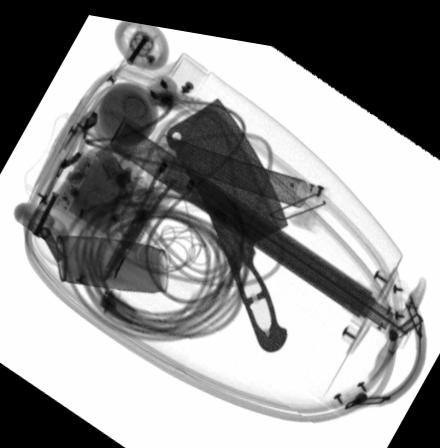Knife: (164, 88, 288, 343)
Powerbank: (48, 145, 166, 253)
Scissors: (102, 128, 204, 280)
